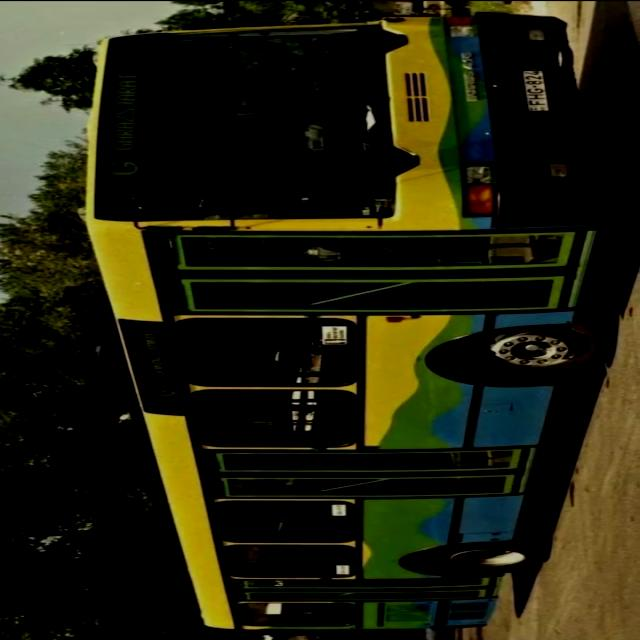bus: (82, 8, 640, 634)
